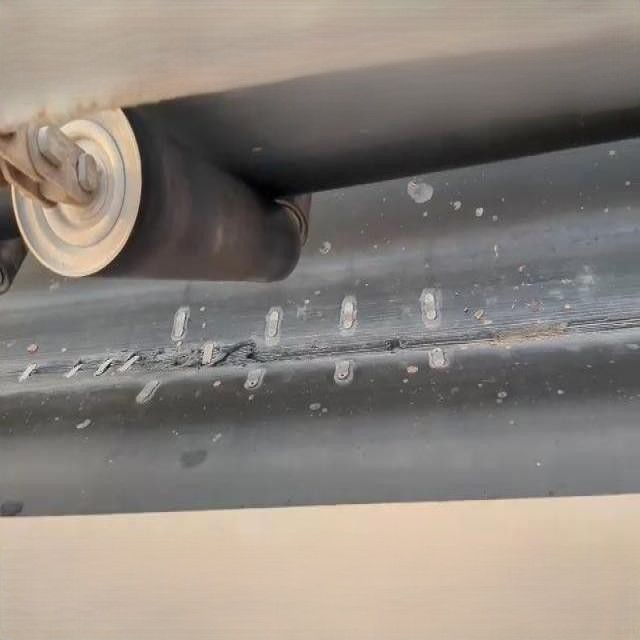Tear: (202, 337, 274, 369)
Wear: (4, 310, 640, 387)
